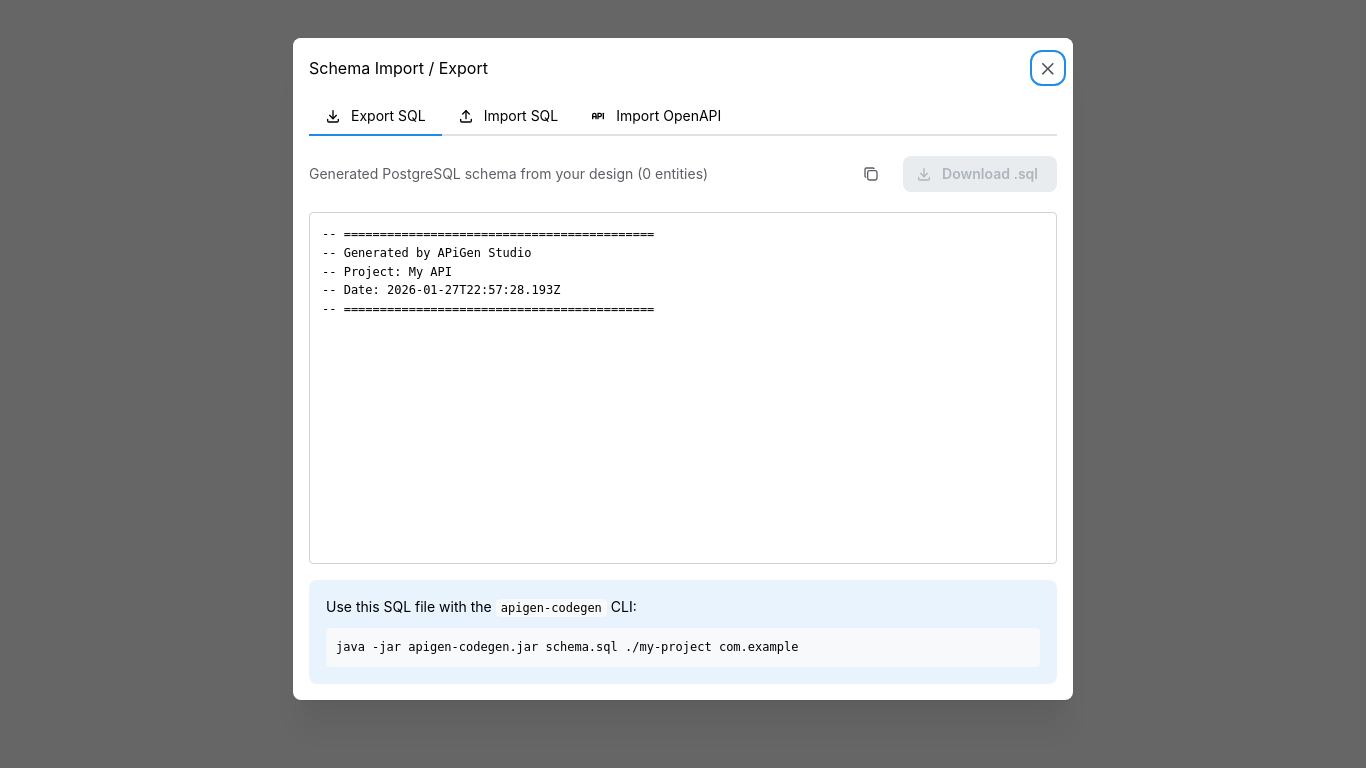
Test: SqlImportExport › Import Tab › should show textarea for pasting SQL
Step 1. Click the tab "Import SQL" → (508, 117), box [442,98,574,136]
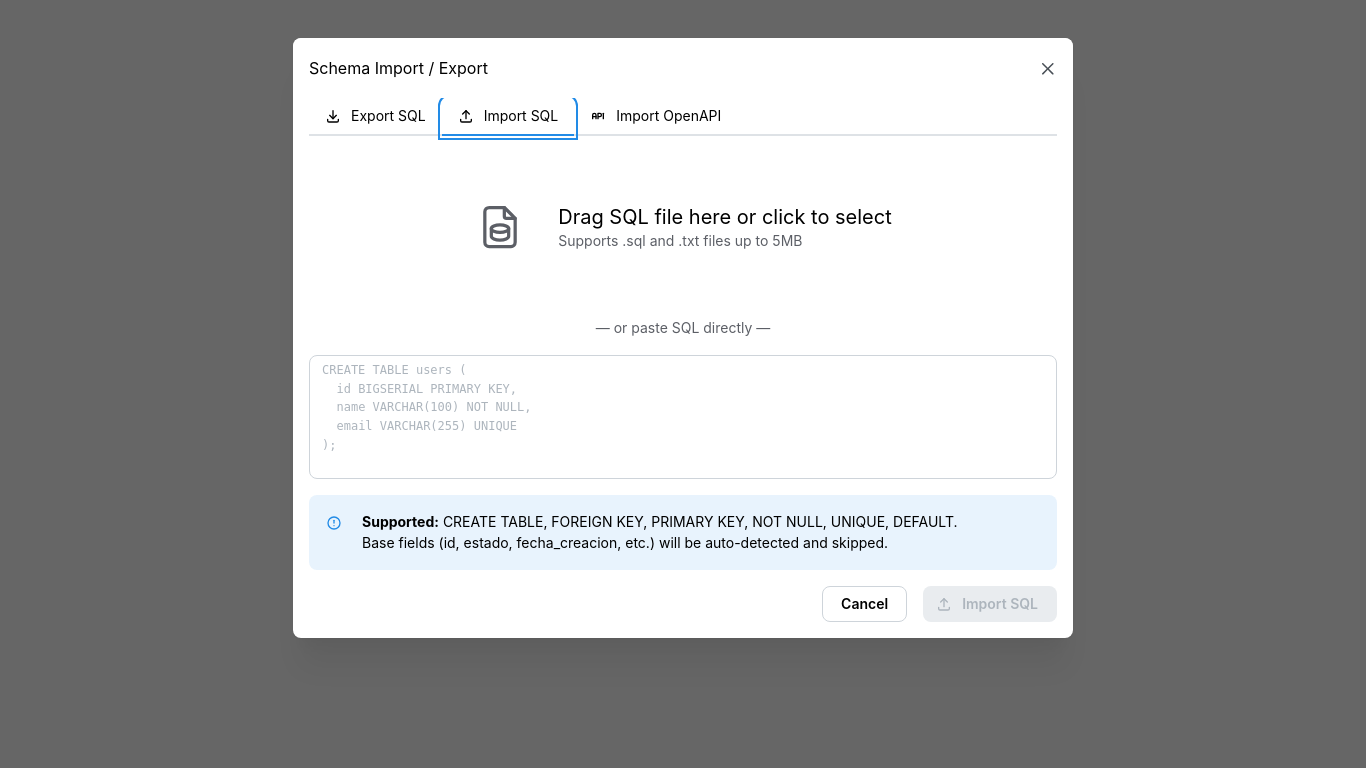
Result: the text box is shown at [309,355,1057,479]
